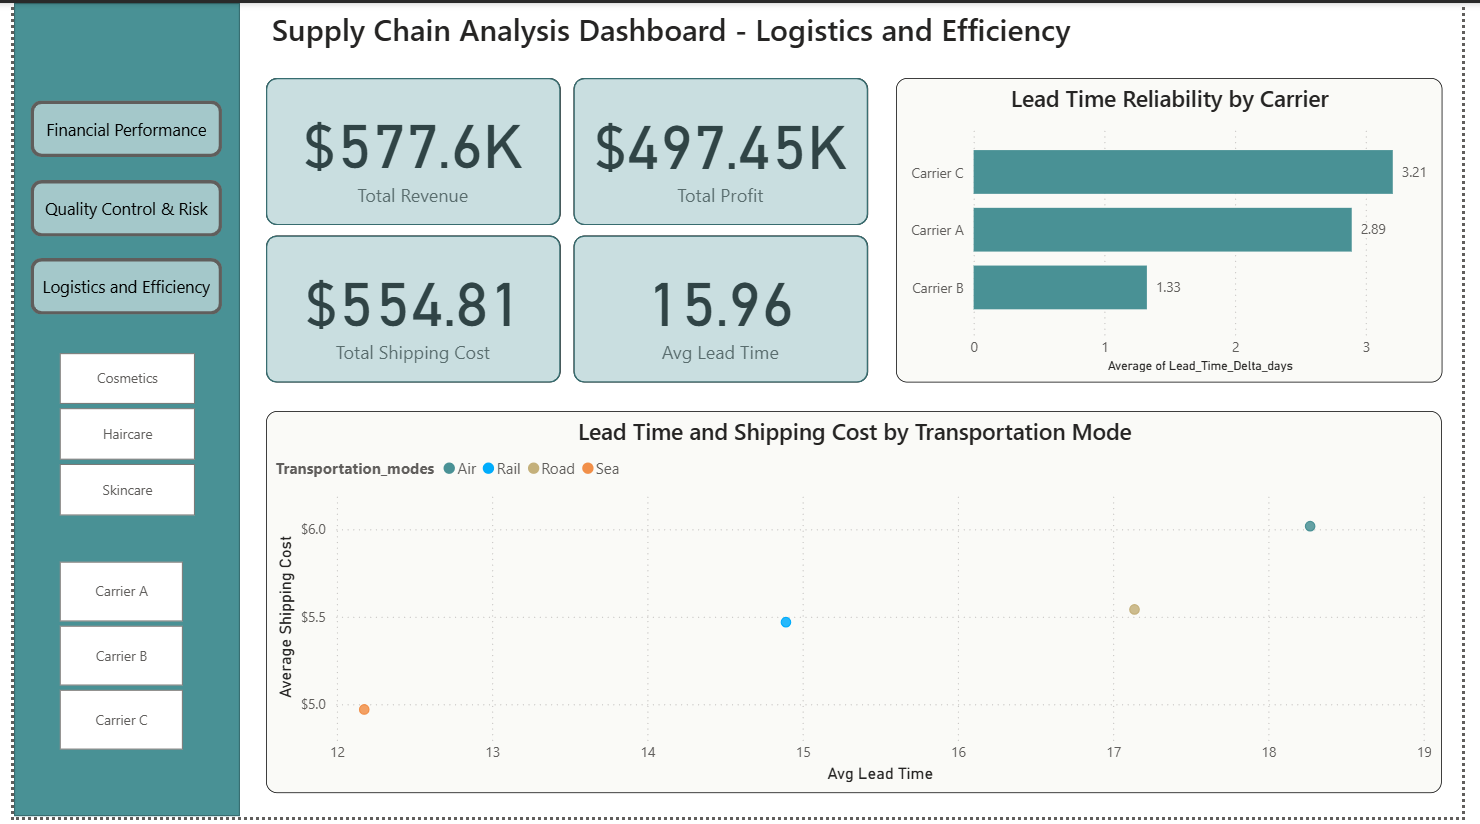

Layout of this report page (visuals, bound fields, positions):
{"tool":"powerbi","page":{"name":"Logistics and Efficiency","canvas":[1280,720],"ordinal":2},"visuals":[{"type":"shape","box":[0,0,199.9,719.2],"z":0},{"type":"card","fields":{"Values":["cleaned_supply_chain_data.Total Revenue"]},"box":[222.6,66.6,260.4,130],"z":1},{"type":"card","fields":{"Values":["cleaned_supply_chain_data.Avg Lead Time"]},"box":[495.1,205.9,260.4,130.2],"z":2},{"type":"card","fields":{"Values":["cleaned_supply_chain_data.Total Profit"]},"box":[495.1,66.6,260.4,130.2],"z":3},{"type":"card","fields":{"Values":["cleaned_supply_chain_data.Total Shipping Cost"]},"box":[222.6,205.9,260.4,130.2],"z":4},{"type":"textbox","box":[222.6,0,1040.3,50],"z":5},{"type":"scatterChart","title":"Lead Time and Shipping Cost by Transportation Mode","fields":{"X":["cleaned_supply_chain_data.Avg Lead Time"],"Y":["cleaned_supply_chain_data.Average Shipping Cost"],"Series":["cleaned_supply_chain_data.Transportation_modes"]},"box":[222.6,360.4,1040.3,337.7],"z":6},{"type":"clusteredBarChart","title":"Lead Time Reliability by Carrier","fields":{"Category":["cleaned_supply_chain_data.Shipping_carriers"],"Y":["Avg(cleaned_supply_chain_data.Lead_Time_Delta_days)"]},"box":[779.8,66.6,483,269.5],"z":7},{"type":"actionButton","box":[15.1,225.6,169.6,50],"z":8},{"type":"actionButton","box":[15.1,156,169.6,50],"z":9},{"type":"actionButton","box":[15.1,86.3,169.6,50],"z":10},{"type":"slicer","fields":{"Values":["cleaned_supply_chain_data.Product_type"]},"box":[15.1,302.8,169.6,157.5],"z":11},{"type":"slicer","fields":{"Values":["cleaned_supply_chain_data.Shipping_carriers"]},"box":[15.1,487.6,159,180.2],"z":12},{"type":"shape","box":[222.6,66.6,260.4,130.2],"z":13},{"type":"shape","box":[495.1,66.6,260.4,130.2],"z":14},{"type":"shape","box":[222.6,205.9,260.4,130.2],"z":15},{"type":"shape","box":[495.1,205.9,260.4,130.2],"z":16}]}

Visuals, with their boxes in screenshot pixels (x1, y1, x2, y2), scaled from the page's 1280x720 canvas onto the 1480x824 screenshot:
shape: (0, 0, 231, 823)
card - cleaned_supply_chain_data.Total Revenue: (257, 76, 558, 225)
card - cleaned_supply_chain_data.Avg Lead Time: (572, 236, 874, 385)
card - cleaned_supply_chain_data.Total Profit: (572, 76, 874, 225)
card - cleaned_supply_chain_data.Total Shipping Cost: (257, 236, 558, 385)
textbox: (257, 0, 1460, 57)
"Lead Time and Shipping Cost by Transportation Mode" scatterChart: (257, 412, 1460, 799)
"Lead Time Reliability by Carrier" clusteredBarChart: (902, 76, 1460, 385)
actionButton: (17, 258, 214, 315)
actionButton: (17, 179, 214, 236)
actionButton: (17, 99, 214, 156)
slicer - cleaned_supply_chain_data.Product_type: (17, 347, 214, 527)
slicer - cleaned_supply_chain_data.Shipping_carriers: (17, 558, 201, 764)
shape: (257, 76, 558, 225)
shape: (572, 76, 874, 225)
shape: (257, 236, 558, 385)
shape: (572, 236, 874, 385)
